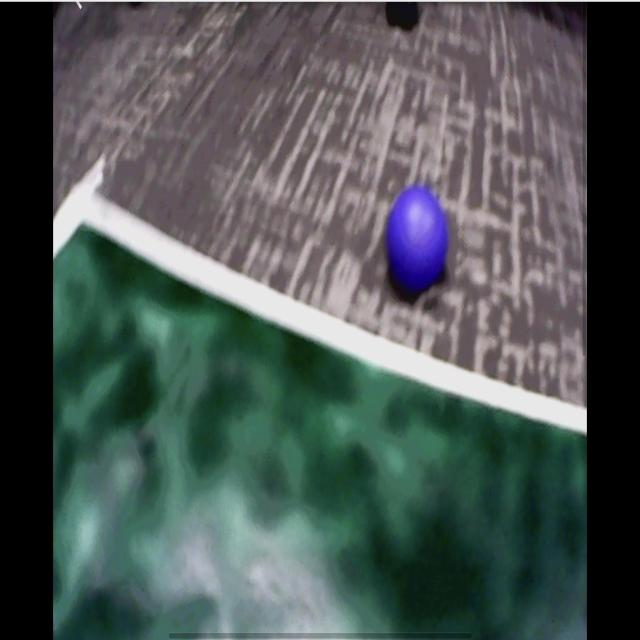ball: (388, 188, 447, 288)
